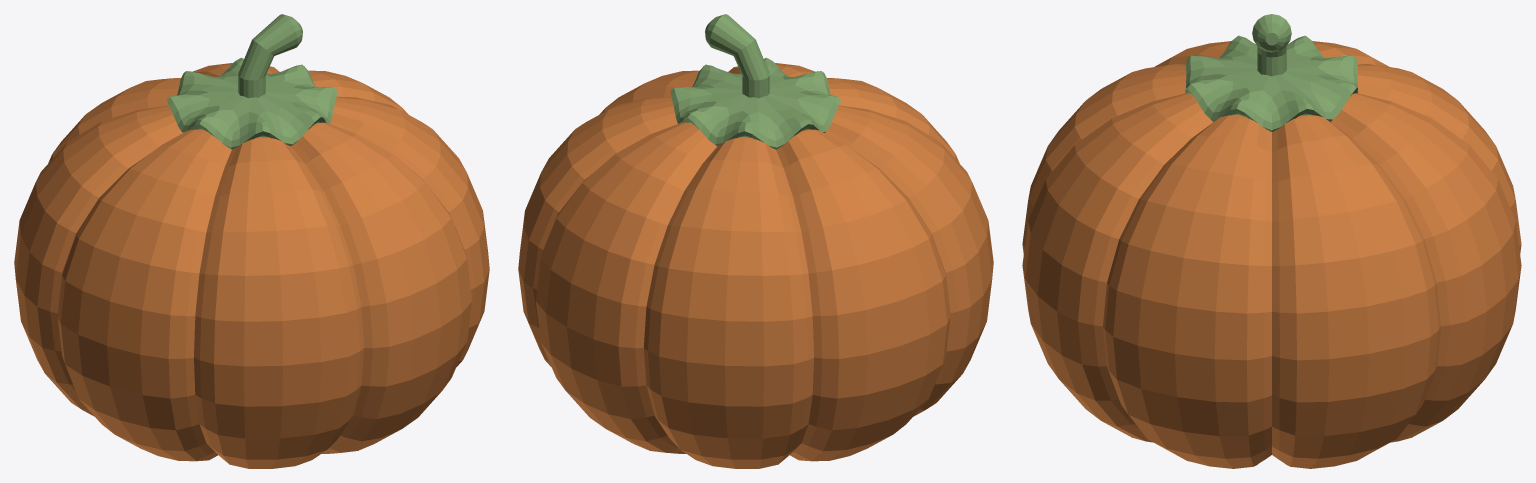
The model's file is Pumpkin.fbx.
3 renders of one model, left to right at view 1: azimuth 30°, elevation 25°; view 2: azimuth 150°, elevation 25°; view 3: azimuth 270°, elevation 25°, orthographic. The views are drawn at different scales.
Parts seen in each view (by area): view 1: Sphere, Sphere.001, Cylinder; view 2: Sphere, Sphere.001, Cylinder; view 3: Sphere, Sphere.001, Cylinder.
Part boxes in pixels (box(x1,y1,x2,y2)): Sphere: box(14, 63, 489, 468); Sphere.001: box(167, 57, 337, 149); Cylinder: box(238, 14, 302, 98); Sphere: box(518, 63, 993, 468); Sphere.001: box(670, 57, 840, 149); Cylinder: box(705, 14, 769, 98); Sphere: box(1022, 41, 1521, 468); Sphere.001: box(1185, 35, 1358, 131); Cylinder: box(1252, 14, 1291, 76).
Bounding box in the file's own units: 187 × 179 × 187.
